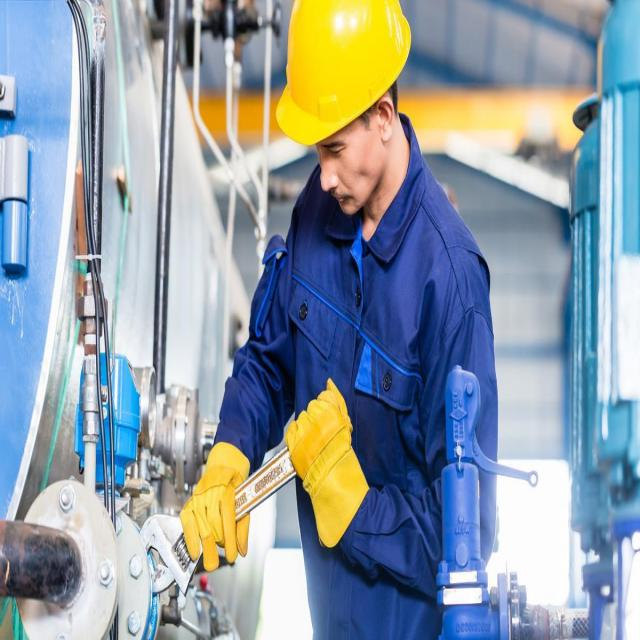Reflective-Jacket: (0, 578, 18, 637)
Safety-Helmet: (274, 2, 411, 152)
